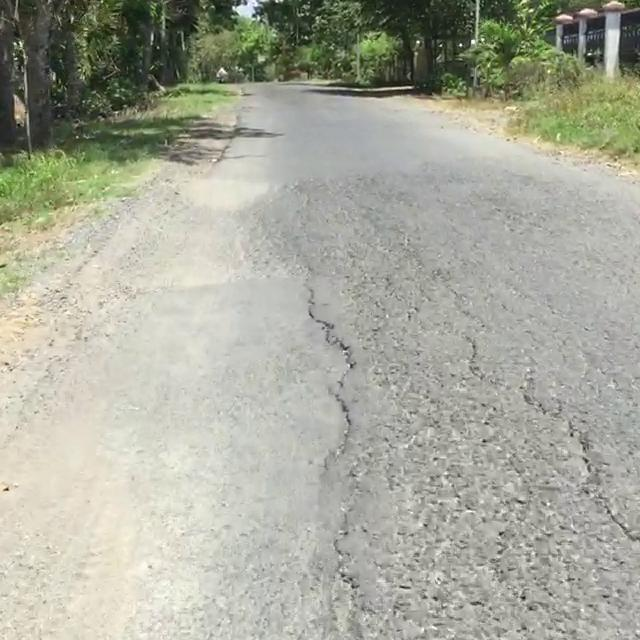retak_memanjang: (248, 247, 408, 640), (465, 341, 640, 608)
